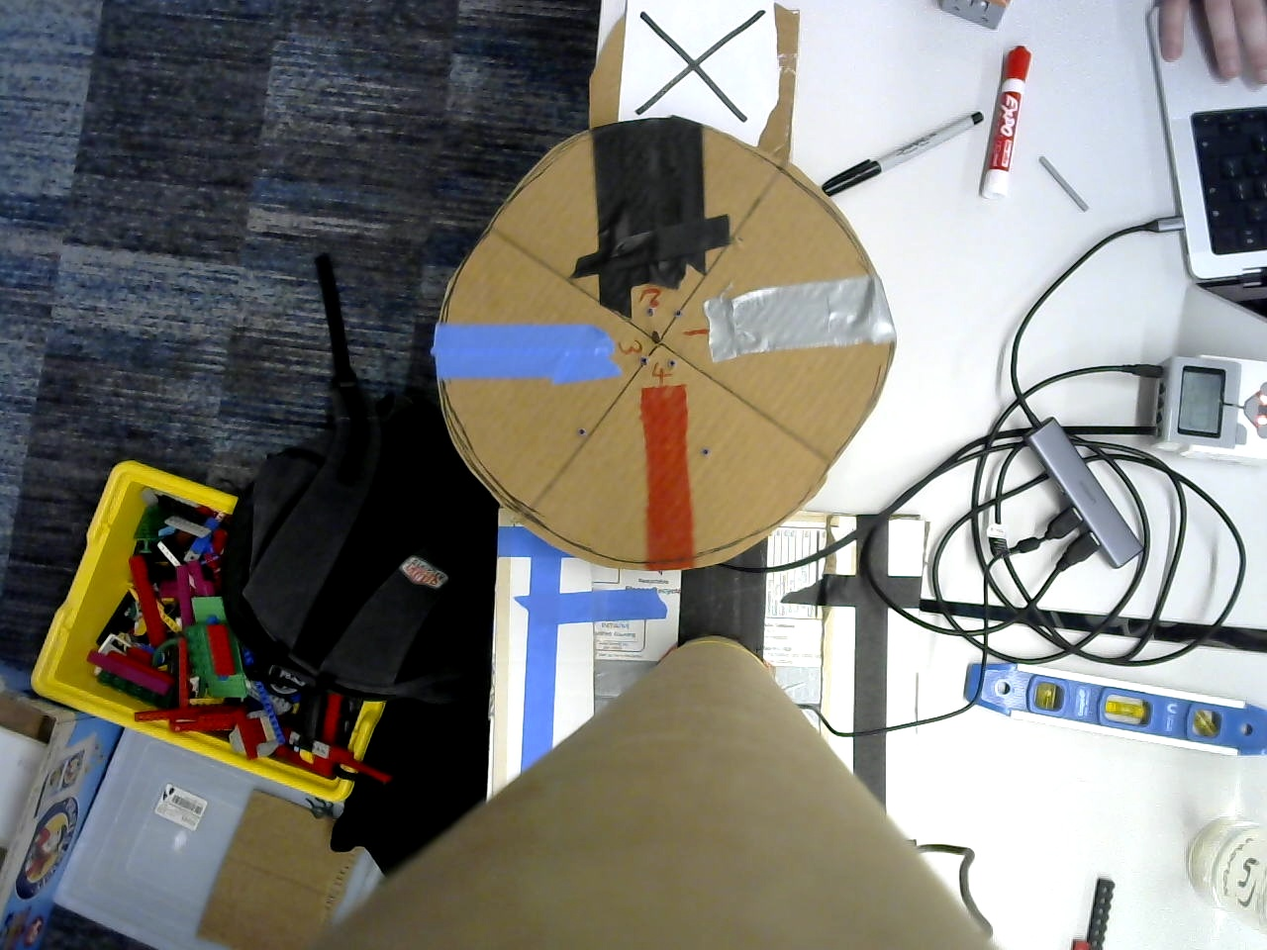black: (1197, 110, 1267, 247)
blue: (432, 323, 620, 385)
red: (635, 383, 699, 567)
silver: (703, 280, 894, 360)
x: (633, 6, 764, 122)
